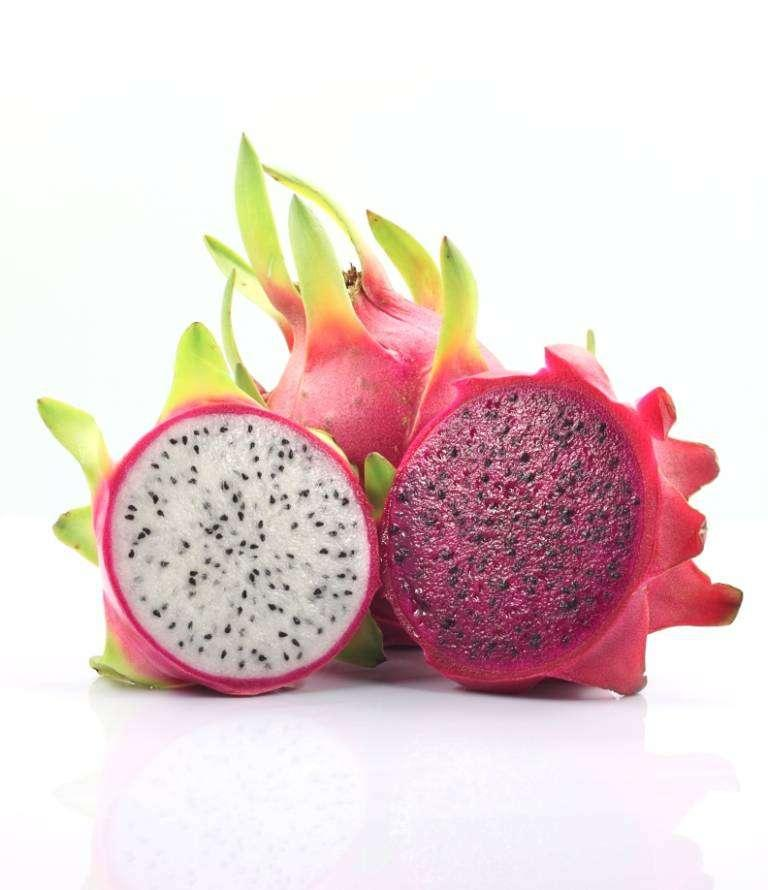dragon-fruit: (396, 315, 748, 702), (46, 381, 380, 704)
